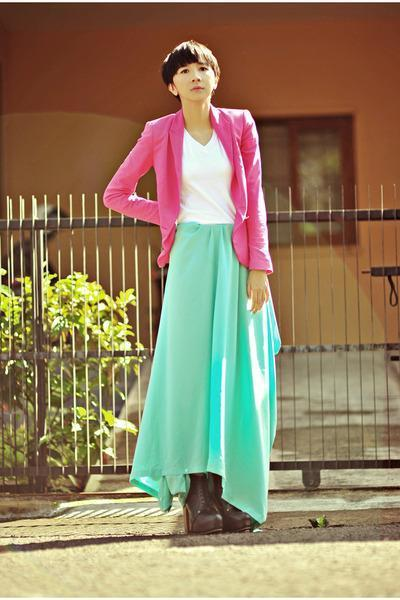jacket: (103, 84, 268, 270)
shirt: (178, 132, 235, 223)
shoe: (187, 472, 251, 534)
skirt: (127, 218, 280, 522)
